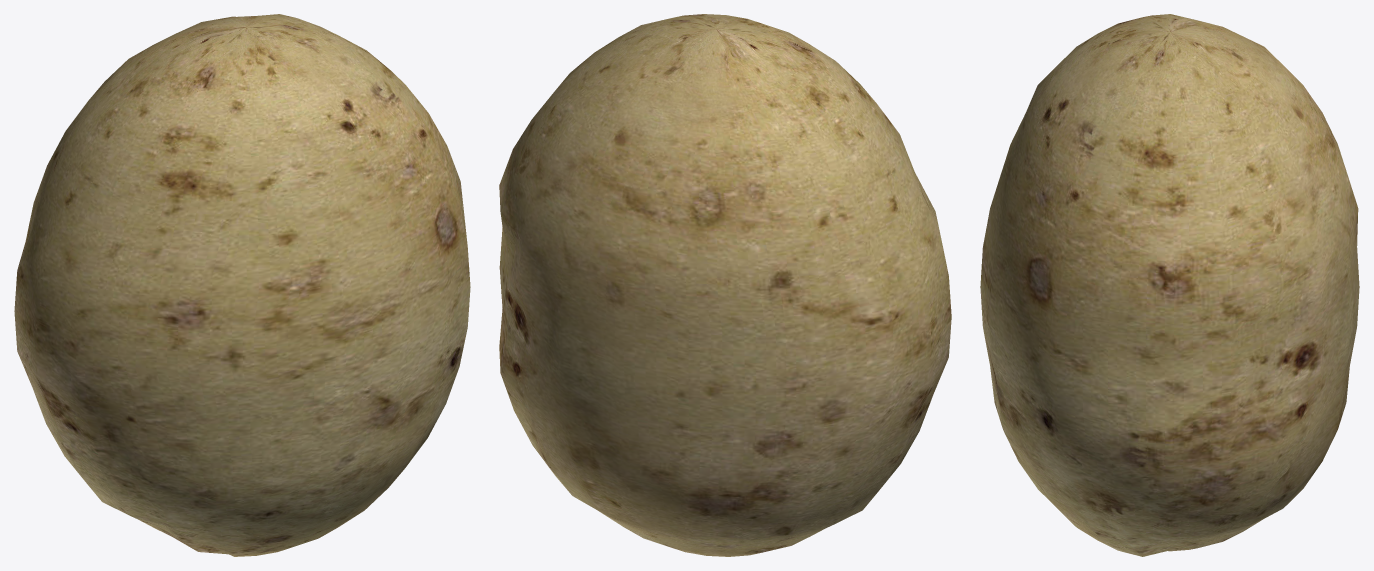
File: potato.fbx
3 views of the same model, side by side, from view 1: azimuth 30°, elevation 25°; view 2: azimuth 150°, elevation 25°; view 3: azimuth 270°, elevation 25° (orthographic). The views are drawn at different scales.
Visible parts, largest first — view 1: potato; view 2: potato; view 3: potato.
Boxes of the visible parts, bbox=[...] form: potato: bbox=[14, 14, 470, 556]; potato: bbox=[499, 14, 951, 556]; potato: bbox=[980, 14, 1359, 556].
Bounding box in the file's own units: 2.39 × 2.8 × 1.92.
Materials: 1 (1 with a texture image).
